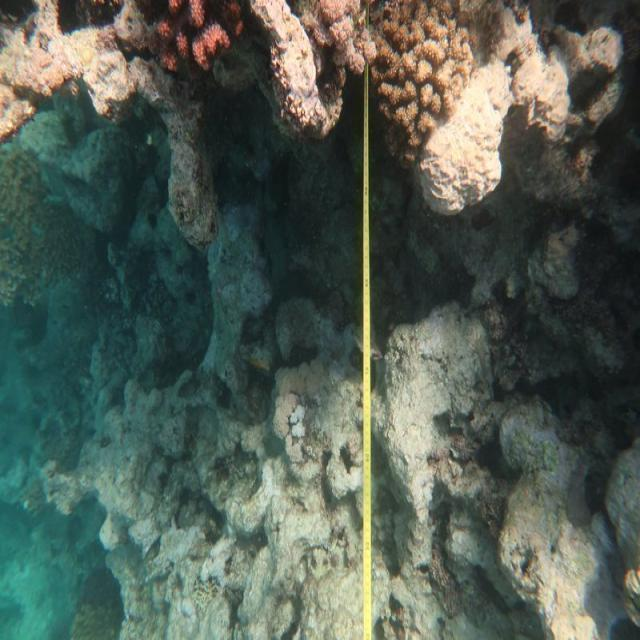Healthy Coral: (368, 0, 476, 154), (145, 0, 250, 67)
